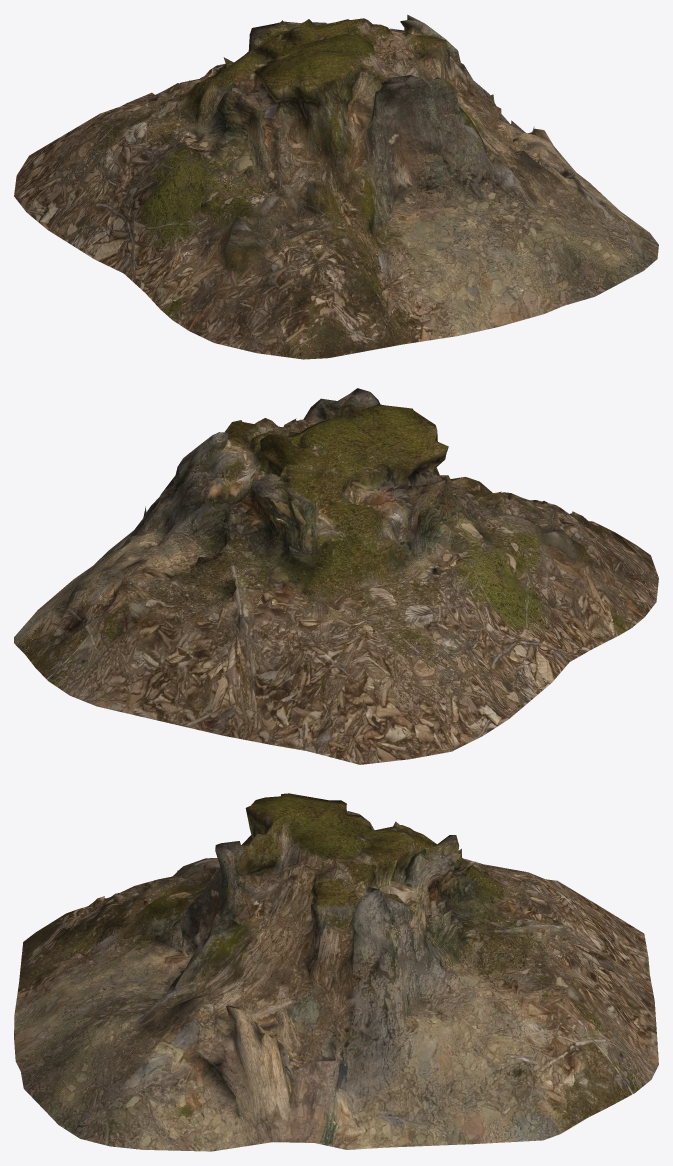
File: glb_stump.691bdf2a.glb
3 renders of one model, top to bottom at view 1: azimuth 30°, elevation 25°; view 2: azimuth 150°, elevation 25°; view 3: azimuth 270°, elevation 25°, orthographic. The views are drawn at different scales.
Parts seen in each view (by area): view 1: tree_stump_01; view 2: tree_stump_01; view 3: tree_stump_01.
Boxes of the visible parts, bbox=[...] form: tree_stump_01: bbox=[14, 14, 658, 359]; tree_stump_01: bbox=[14, 388, 658, 764]; tree_stump_01: bbox=[14, 793, 658, 1151].
Size of the model in its own units: 1.43 by 0.571 by 1.59.
1 material, 1 textured.
